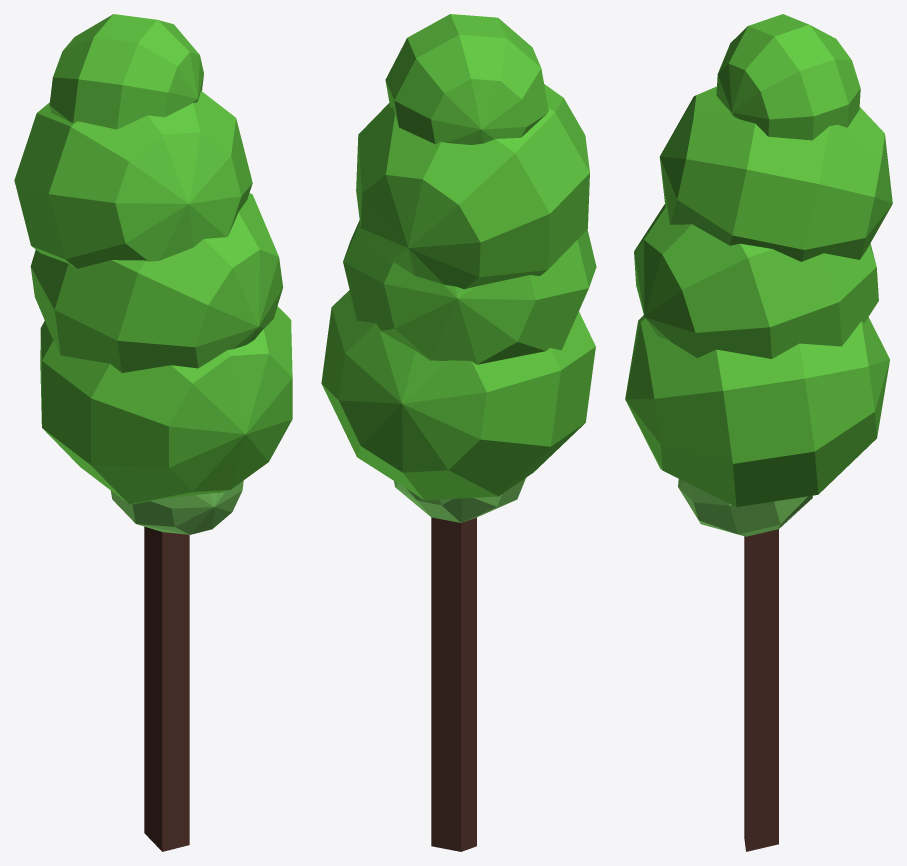
Rendered from Tree_1.fbx.
The picture shows the model from 3 angles, left to right: view 1: azimuth 30°, elevation 25°; view 2: azimuth 150°, elevation 25°; view 3: azimuth 270°, elevation 25°; orthographic projection. The views are drawn at different scales.
Parts seen in each view (by area): view 1: Tree_1; view 2: Tree_1; view 3: Tree_1.
Part boxes in pixels (<box>): Tree_1: <box>14,14,292,851</box>; Tree_1: <box>321,14,596,851</box>; Tree_1: <box>625,14,892,851</box>.
Size of the model in its own units: 483 by 1608 by 484.
1 material, 1 textured.
